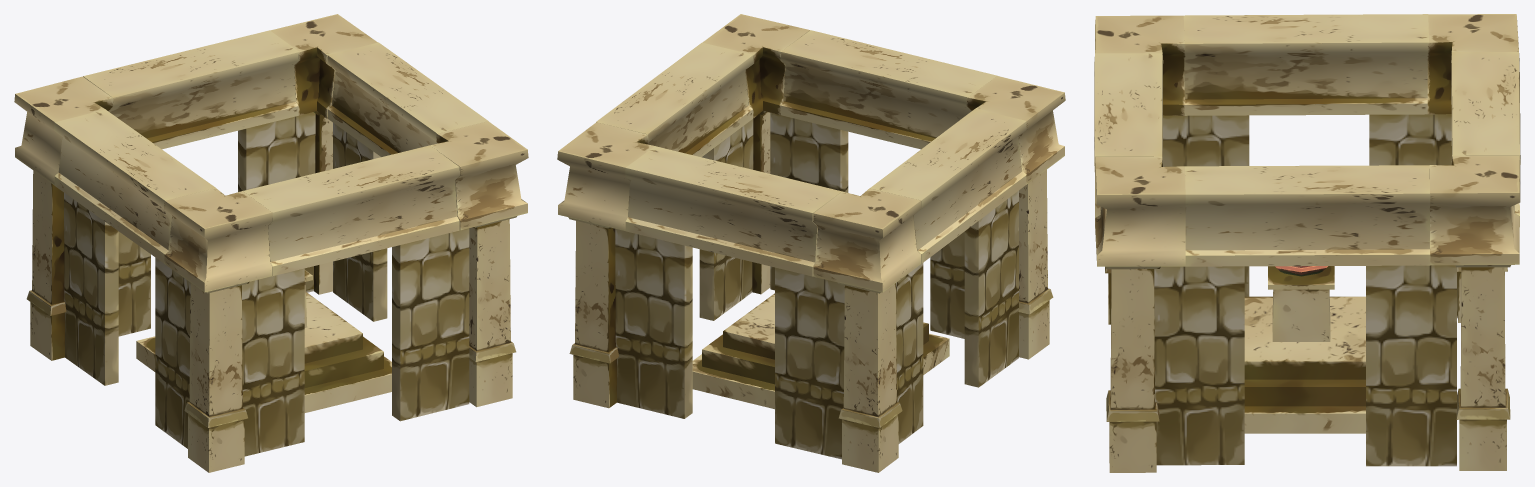
Rendered from Rome_Village_Buildings_10.FBX.
The picture shows the model from 3 angles, left to right: view 1: azimuth 30°, elevation 25°; view 2: azimuth 150°, elevation 25°; view 3: azimuth 270°, elevation 25°; orthographic projection. The views are drawn at different scales.
Parts seen in each view (by area): view 1: Rome_Village_Buildings_10; view 2: Rome_Village_Buildings_10; view 3: Rome_Village_Buildings_10.
Part boxes in pixels (box(x1,y1,x2,y2)): Rome_Village_Buildings_10: box(14, 14, 528, 472); Rome_Village_Buildings_10: box(557, 14, 1065, 472); Rome_Village_Buildings_10: box(1094, 14, 1520, 472).
Size of the model in its own units: 579 by 422 by 575.
